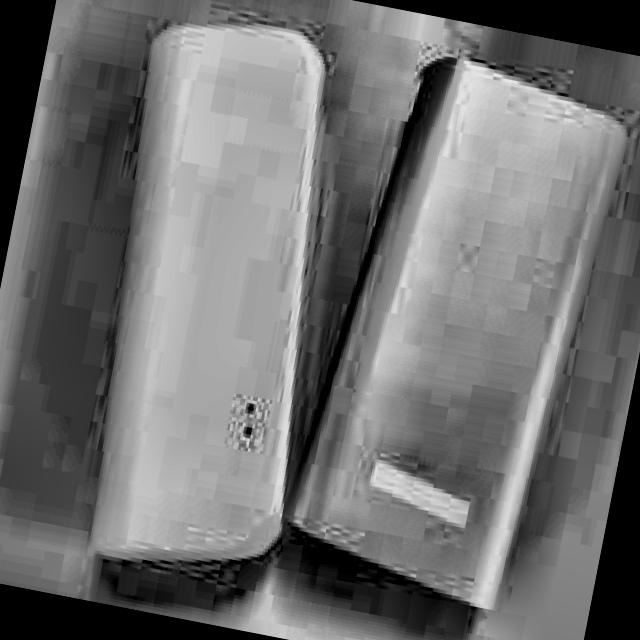Battery: (282, 39, 626, 604), (62, 9, 372, 581)
